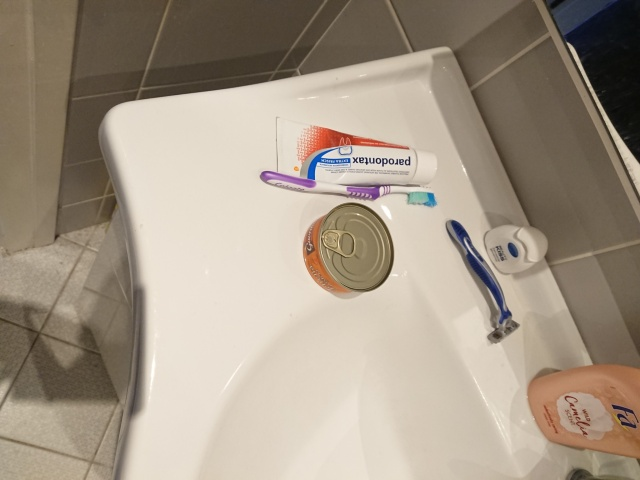Gavrilovic Pork Liver Pate 100g: (300, 199, 395, 295)
